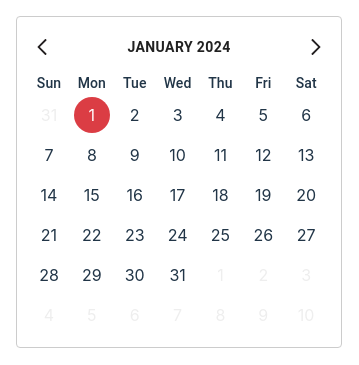
Test case: Calendar Component › navigates to next month
The image size is (359, 365).
Step 1. Click the button with test id "next-button" → (316, 47), box [303,34,329,60]
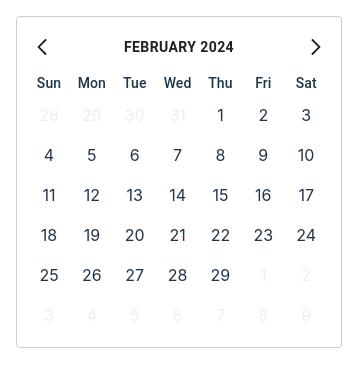
Expected: the button "February 2024" is shown, [87,29,271,65]
